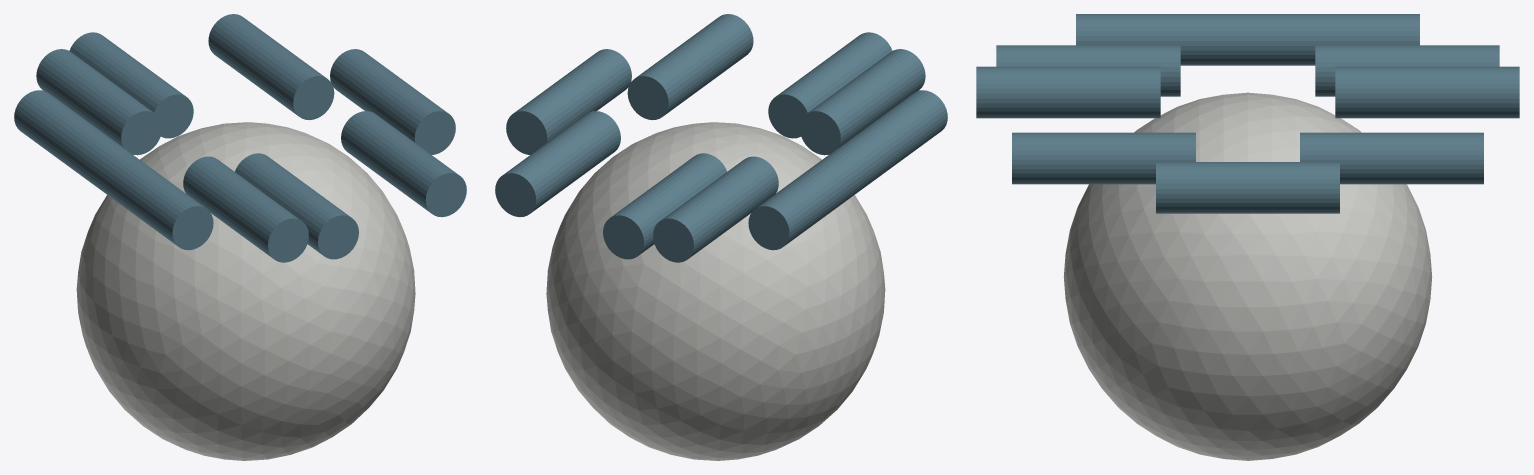
Rendered from pen-balloon-bird.glb.
3 views of the same model, side by side, from view 1: azimuth 30°, elevation 25°; view 2: azimuth 150°, elevation 25°; view 3: azimuth 270°, elevation 25° (orthographic). The views are drawn at different scales.
Visible parts, largest first — view 1: body, bristles/antennae_3_1, bristles/antennae_3_6, body lobe_0_1, bristles/antennae_3_3, body lobe_0_2, body lobe_0_0, bristles/antennae_3_2, bristles/antennae_3_4, bristles/antennae_3_5; view 2: body, bristles/antennae_3_6, bristles/antennae_3_1, body lobe_0_2, body lobe_0_1, bristles/antennae_3_4, body lobe_0_0, bristles/antennae_3_5, bristles/antennae_3_3, bristles/antennae_3_2; view 3: body, bristles/antennae_3_2, bristles/antennae_3_5, body lobe_0_0, bristles/antennae_3_1, bristles/antennae_3_6, bristles/antennae_3_3, bristles/antennae_3_4, body lobe_0_1, body lobe_0_2.
Boxes of the visible parts, x1,y1,x2,y2 form: body: (76,122,415,460); bristles/antennae_3_1: (341,111,466,217); bristles/antennae_3_6: (208,14,334,120); body lobe_0_1: (183,156,308,262); bristles/antennae_3_3: (87,145,213,250); body lobe_0_2: (36,49,162,155); body lobe_0_0: (330,49,455,154); bristles/antennae_3_2: (235,153,358,259); bristles/antennae_3_4: (14,90,127,187); bristles/antennae_3_5: (69,32,193,138); body: (546,122,885,460); bristles/antennae_3_6: (495,111,620,217); bristles/antennae_3_1: (627,14,753,120); body lobe_0_2: (653,156,778,262); body lobe_0_1: (799,49,925,155); bristles/antennae_3_4: (748,145,874,250); body lobe_0_0: (506,49,631,154); bristles/antennae_3_5: (603,153,726,259); bristles/antennae_3_3: (833,90,947,187); bristles/antennae_3_2: (768,32,892,138); body: (1063,92,1432,460); bristles/antennae_3_2: (976,66,1160,118); bristles/antennae_3_5: (1335,66,1519,118); body lobe_0_0: (1156,162,1339,213); bristles/antennae_3_1: (1012,132,1195,184); bristles/antennae_3_6: (1300,132,1483,184); bristles/antennae_3_3: (1076,14,1260,65); bristles/antennae_3_4: (1235,14,1419,65); body lobe_0_1: (996,45,1180,96); body lobe_0_2: (1315,45,1499,96).
Size of the model in its own units: 0.4362 by 0.428 by 0.59.
